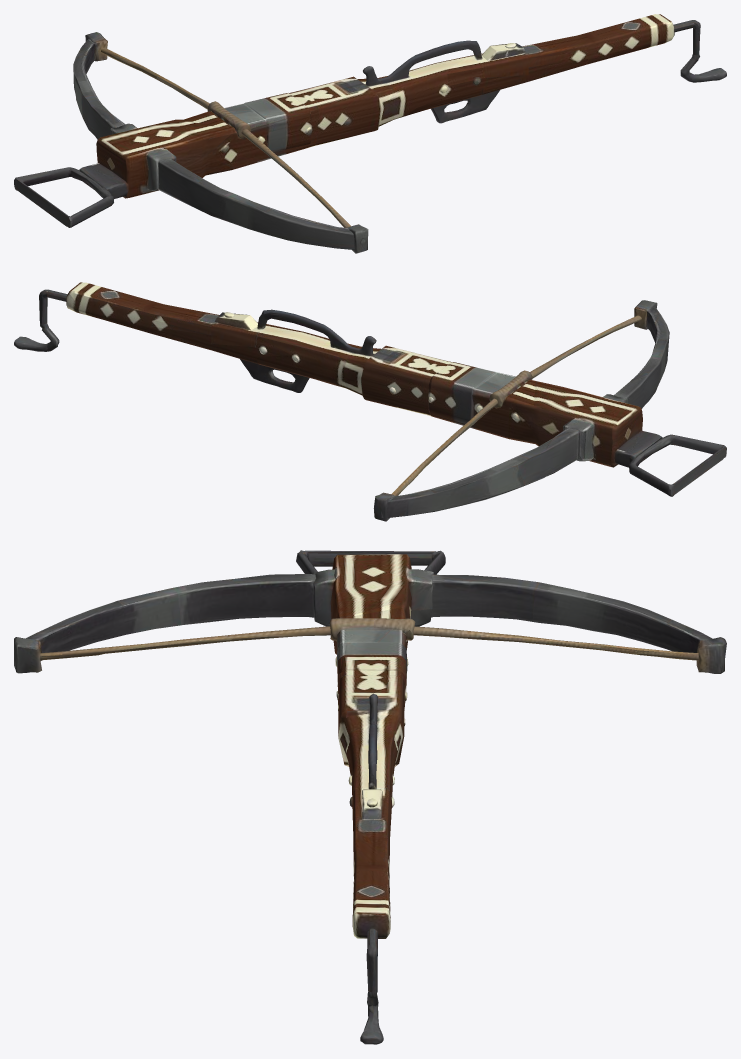
File: heavy-crossbow.glb
3 renders of one model, top to bottom at view 1: azimuth 30°, elevation 25°; view 2: azimuth 150°, elevation 25°; view 3: azimuth 270°, elevation 25°, orthographic. The views are drawn at different scales.
Parts seen in each view (by area): view 1: mesh_node; view 2: mesh_node; view 3: mesh_node.
Part boxes in pixels (<box>): mesh_node: <box>14,14,726,253</box>; mesh_node: <box>14,282,726,521</box>; mesh_node: <box>14,550,726,1044</box>.
Size of the model in its own units: 0.85 by 0.117 by 0.5877.
1 material, 1 textured.
